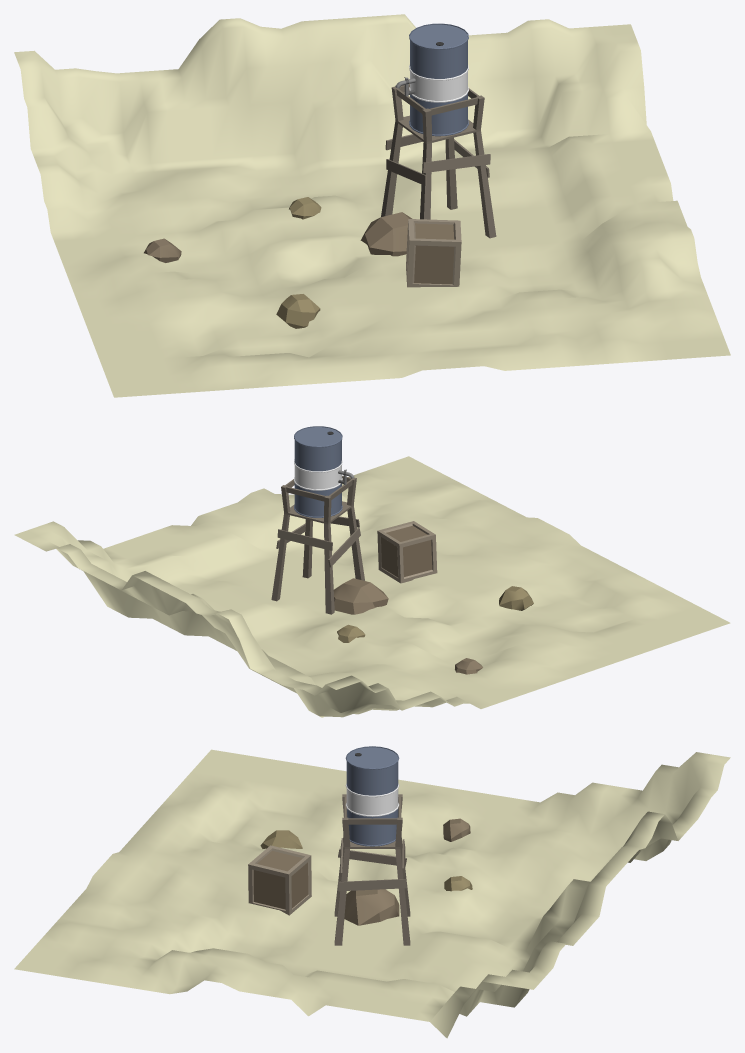
Rendered from water-model.glb.
3 views of the same model, one above another, from view 1: azimuth 30°, elevation 25°; view 2: azimuth 150°, elevation 25°; view 3: azimuth 270°, elevation 25° (orthographic). The views are drawn at different scales.
Visible parts, largest first — view 1: pPlane1, pCylinder1, pCube2, pCube6, pCube5, pCube3, pCube4; view 2: pPlane1, pCylinder1, pCube2, pCube6, pCube5, pCube3, pCube4; view 3: pPlane1, pCylinder1, pCube6, pCube2, pCube5, pCube3, pCube4.
Part boxes in pixels (bbox=[...]): pPlane1: bbox=[14, 14, 730, 397]; pCylinder1: bbox=[409, 23, 468, 136]; pCube2: bbox=[381, 84, 496, 238]; pCube6: bbox=[406, 219, 461, 287]; pCube5: bbox=[144, 212, 412, 262]; pCube3: bbox=[385, 134, 490, 185]; pCube4: bbox=[276, 197, 321, 328]; pPlane1: bbox=[14, 456, 730, 717]; pCylinder1: bbox=[294, 426, 342, 517]; pCube2: bbox=[271, 475, 364, 614]; pCube6: bbox=[377, 521, 437, 583]; pCube5: bbox=[333, 578, 482, 674]; pCube3: bbox=[276, 516, 360, 567]; pCube4: bbox=[337, 586, 533, 642]; pPlane1: bbox=[14, 749, 730, 1038]; pCylinder1: bbox=[345, 746, 399, 846]; pCube6: bbox=[248, 845, 311, 915]; pCube2: bbox=[334, 794, 410, 945]; pCube5: bbox=[344, 818, 470, 925]; pCube3: bbox=[338, 838, 406, 891]; pCube4: bbox=[260, 830, 472, 891].
Bounding box in the file's own units: 0.2769 × 0.0849 × 0.2769.
